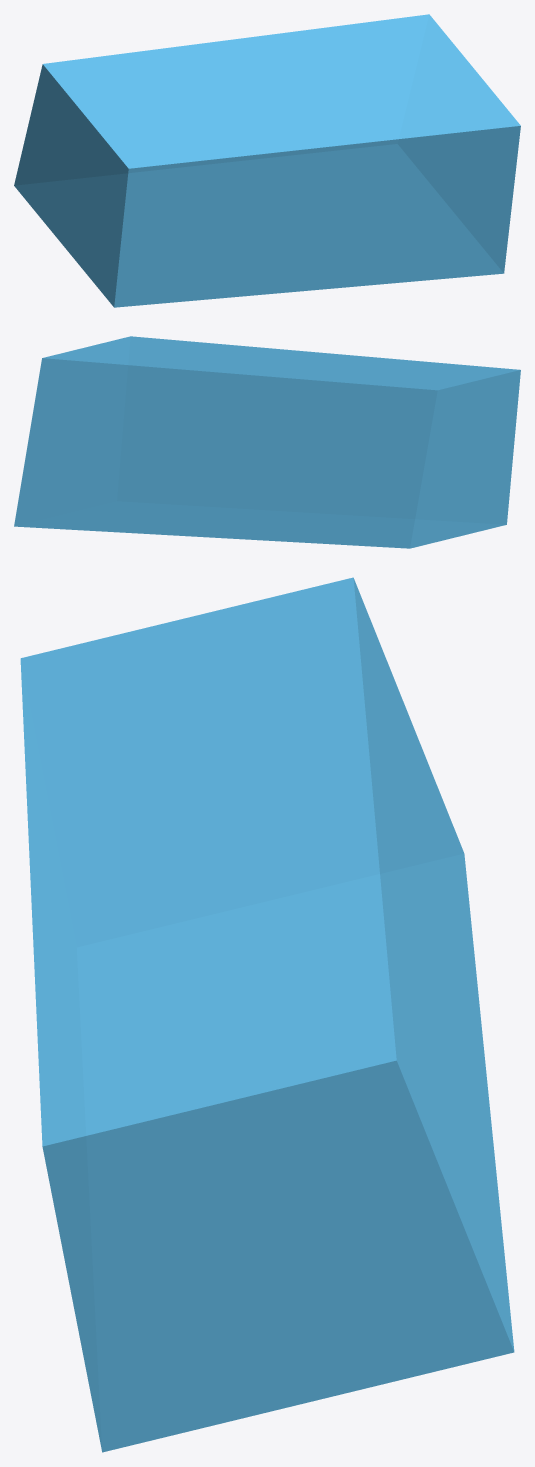
Rendered from Event_421364160_HErechit_25.fbx.
3 views of the same model, one above another, from view 1: azimuth 30°, elevation 25°; view 2: azimuth 150°, elevation 25°; view 3: azimuth 270°, elevation 25° (orthographic). The views are drawn at different scales.
Parts seen in each view (by area): view 1: Model; view 2: Model; view 3: Model.
Boxes of the visible parts, box(x1,y1,x2,y2) form: Model: box(14, 14, 520, 307); Model: box(14, 336, 520, 548); Model: box(20, 577, 514, 1452).
Size of the model in its own units: 0.6491 by 0.4036 by 0.3607.
